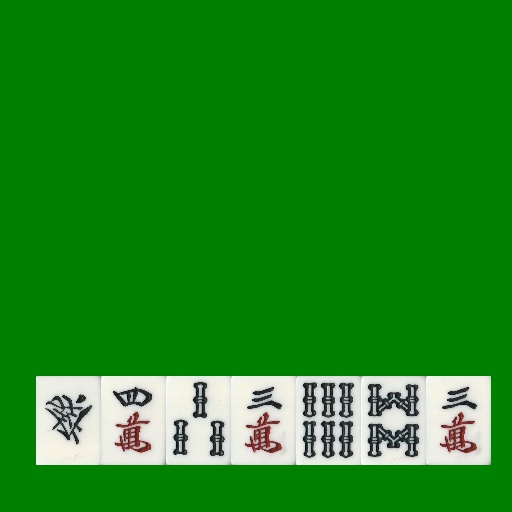3m: (231, 376, 296, 465), (426, 376, 491, 465)
3s: (166, 376, 231, 465)
4m: (101, 376, 166, 465)
6s: (296, 376, 361, 465)
8s: (361, 376, 426, 465)
hatsu: (36, 376, 101, 465)
